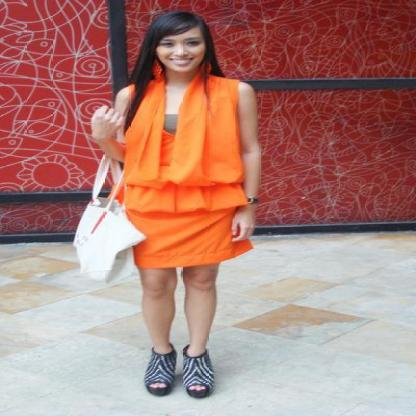bag: (74, 158, 144, 279)
dress: (114, 61, 253, 268)
shirt: (162, 108, 178, 133)
shoe: (145, 343, 214, 398)
